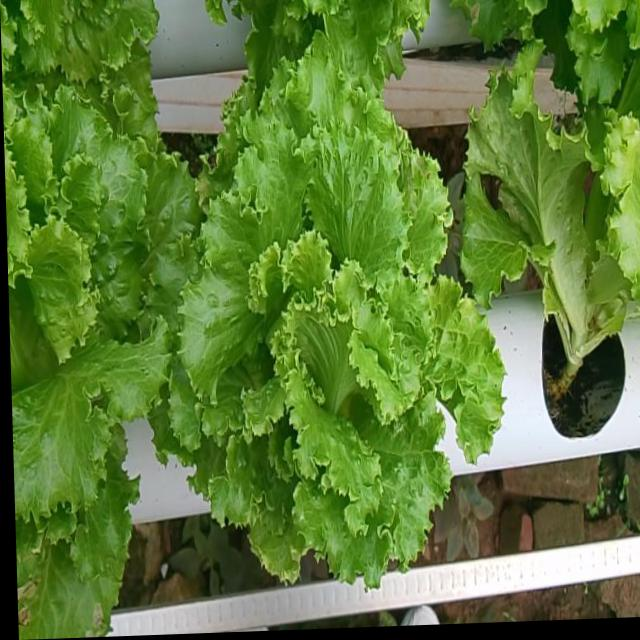Mature: (178, 69, 512, 606), (5, 98, 207, 543)
